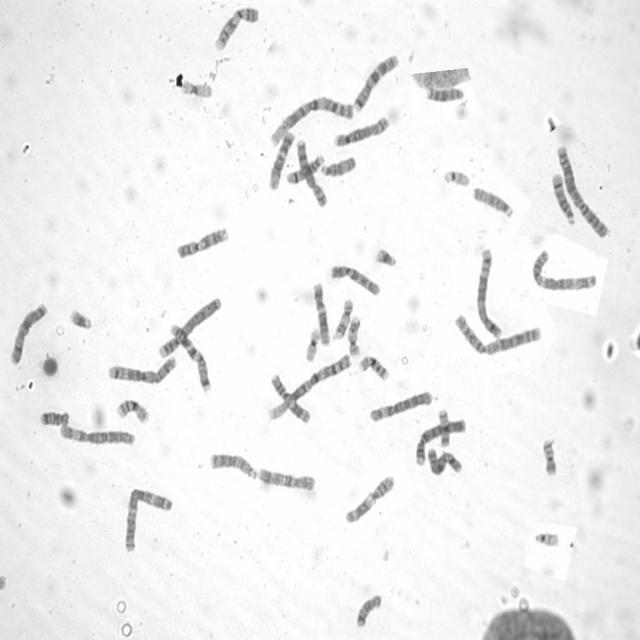A1: (266, 350, 352, 422), (267, 93, 355, 148)
A2: (554, 142, 610, 240), (451, 309, 544, 359)
A3: (121, 483, 174, 555), (530, 248, 598, 292)
B4: (156, 293, 224, 360), (414, 416, 467, 468)
B5: (474, 245, 503, 341), (106, 354, 178, 386)
C10: (328, 262, 382, 298), (257, 464, 316, 492)
C11: (342, 472, 396, 525), (268, 369, 311, 425)
C12: (267, 128, 295, 190), (312, 280, 332, 346)
C6: (368, 387, 433, 424), (57, 420, 137, 450)
C7: (168, 319, 213, 395), (352, 51, 399, 113)
C8: (295, 135, 329, 208), (332, 114, 391, 148)
C9: (212, 3, 260, 52), (175, 223, 230, 260)
D13: (208, 449, 260, 482), (424, 84, 466, 104)
D14: (549, 170, 577, 228), (284, 152, 325, 186)
D15: (470, 183, 515, 220), (318, 152, 358, 178)
E16: (114, 396, 150, 425), (357, 353, 391, 383)
E17: (332, 296, 354, 342), (346, 313, 362, 359)
E18: (354, 590, 383, 628), (37, 406, 71, 428)
F19: (180, 78, 213, 100), (302, 324, 320, 364)
F20: (539, 434, 559, 478), (436, 406, 452, 448)
G21: (67, 306, 93, 332), (373, 244, 398, 268)
G22: (532, 526, 562, 549), (442, 165, 471, 188)
X: (8, 300, 48, 367), (425, 445, 464, 477)
